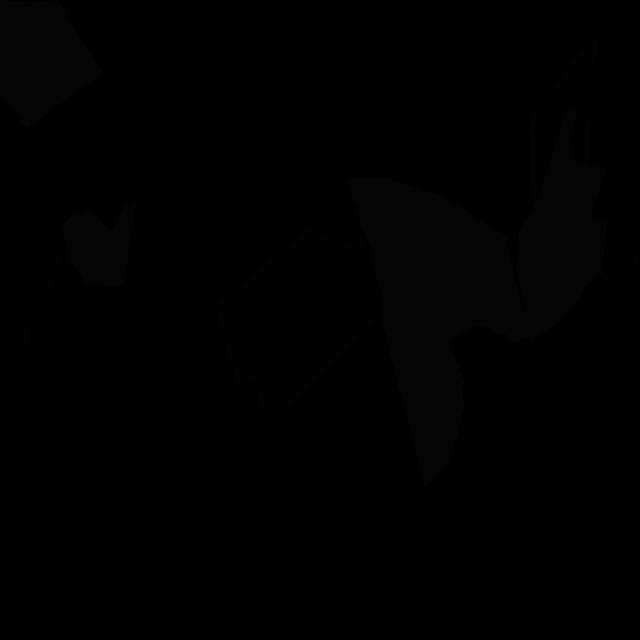cardboard: (215, 228, 380, 424), (529, 37, 598, 202)
rigid_plastic: (0, 169, 64, 354), (563, 238, 640, 388)
soft_plastic: (348, 178, 531, 486), (516, 106, 608, 342), (0, 0, 104, 128), (60, 196, 138, 285)
